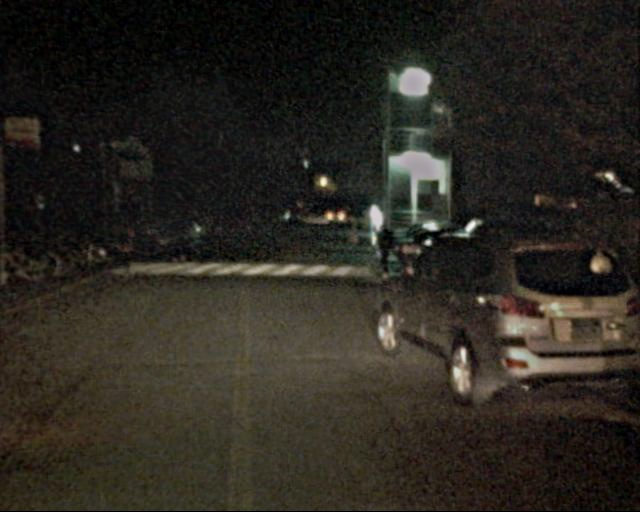person: (371, 221, 396, 282), (114, 215, 138, 274), (167, 214, 183, 257)
